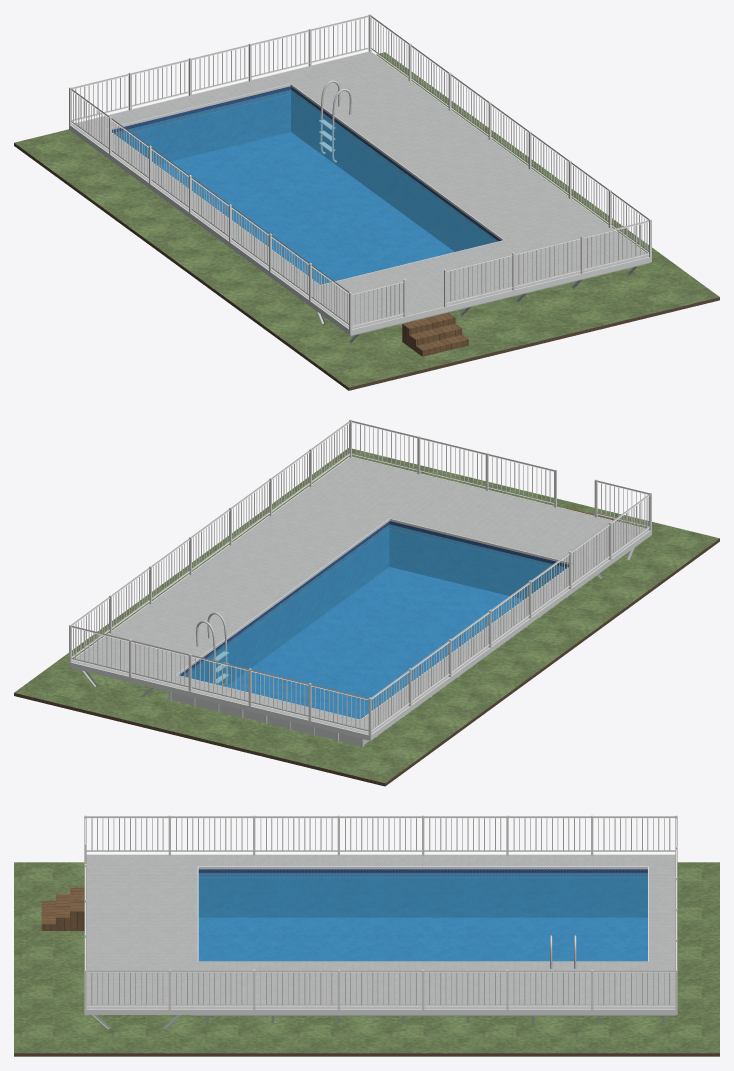
File: kayak-pool-16x32-white-endside-rec-fence.afc63a070b.glb
The picture shows the model from 3 angles, top to bottom: view 1: azimuth 30°, elevation 25°; view 2: azimuth 150°, elevation 25°; view 3: azimuth 270°, elevation 25°; orthographic projection. The views are drawn at different scales.
Parts seen in each view (by area): view 1: deck, water, ground, fence, liner_floor, liner_wall, fascia, soil, steps, steel, stud; view 2: deck, water, ground, fence, liner_floor, liner_wall, fascia, soil, wall, steel; view 3: deck, ground, water, liner_wall, liner_floor, fence, fascia, soil, steps, stud.
Part boxes in pixels (x1,y1,x2,y2): deck: [71, 52, 648, 329]; water: [114, 89, 497, 284]; ground: [14, 52, 719, 387]; fence: [69, 14, 651, 330]; liner_floor: [157, 132, 454, 284]; liner_wall: [112, 86, 500, 251]; fascia: [69, 51, 651, 335]; soil: [14, 143, 719, 390]; steps: [402, 312, 468, 356]; steel: [319, 80, 351, 162]; stud: [299, 262, 650, 342]; deck: [72, 457, 649, 734]; water: [182, 524, 566, 718]; ground: [14, 448, 719, 783]; fence: [69, 419, 651, 735]; liner_floor: [226, 567, 523, 718]; liner_wall: [179, 521, 568, 686]; fascia: [69, 456, 651, 740]; soil: [14, 538, 719, 786]; wall: [171, 692, 369, 745]; steel: [196, 612, 228, 685]; deck: [86, 855, 675, 1008]; ground: [14, 862, 719, 1053]; water: [198, 873, 647, 961]; liner_wall: [198, 869, 647, 917]; liner_floor: [198, 917, 647, 961]; fence: [84, 815, 677, 1009]; fascia: [84, 854, 677, 1014]; soil: [14, 1053, 719, 1056]; steps: [41, 887, 84, 930]; stud: [85, 1015, 676, 1029].
Bounding box in the file's own units: 9.75 × 2.15 × 15.23.
Materials: 13 (5 with a texture image).
